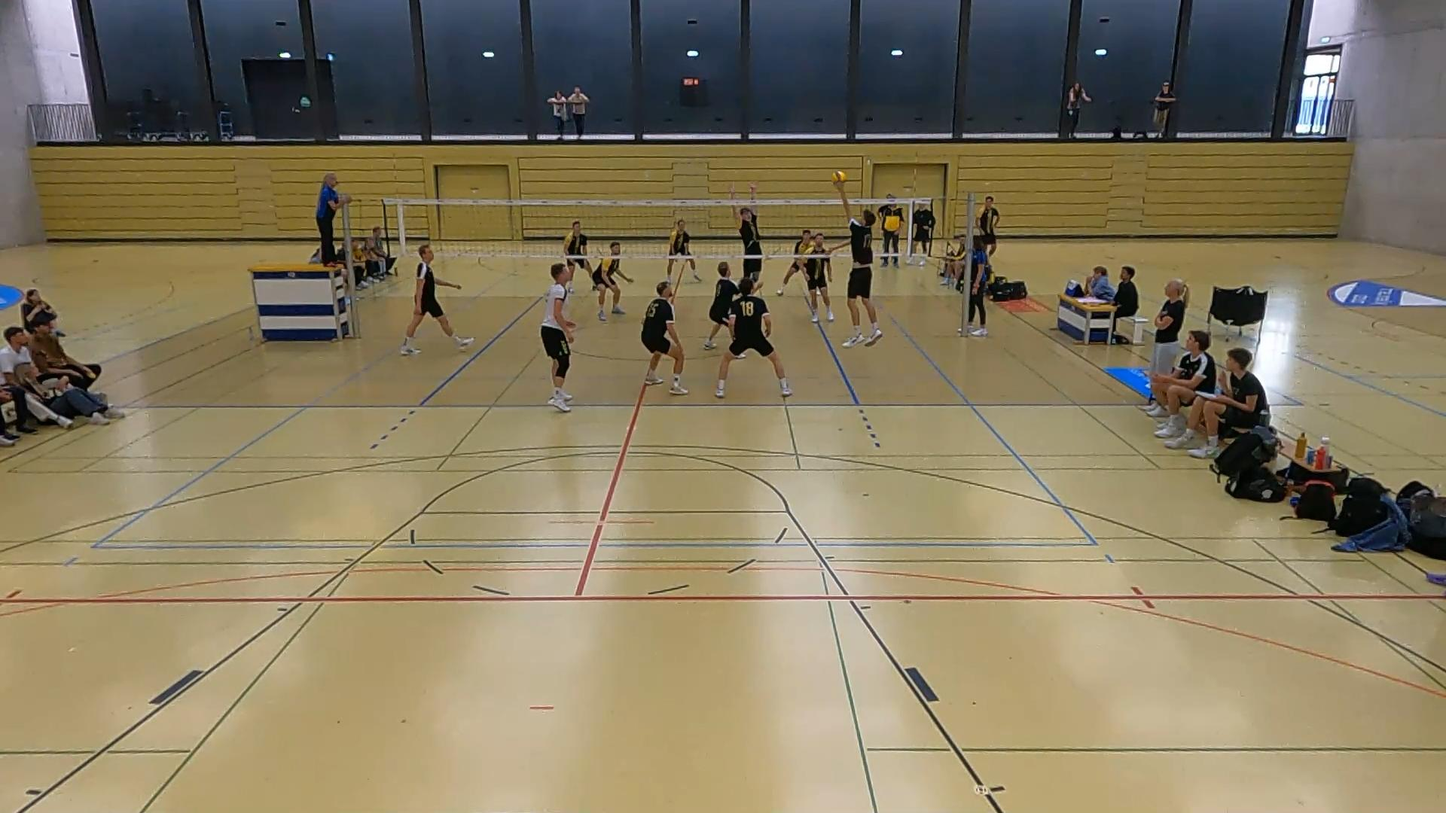Attack: (826, 182, 895, 352)
Player: (715, 279, 791, 397), (401, 245, 474, 355), (641, 282, 687, 394), (541, 263, 575, 412), (729, 182, 762, 283), (591, 242, 633, 321), (703, 262, 737, 349), (804, 232, 834, 322), (776, 229, 812, 296), (667, 219, 700, 281), (563, 221, 590, 272)
ball: (830, 169, 847, 193)
